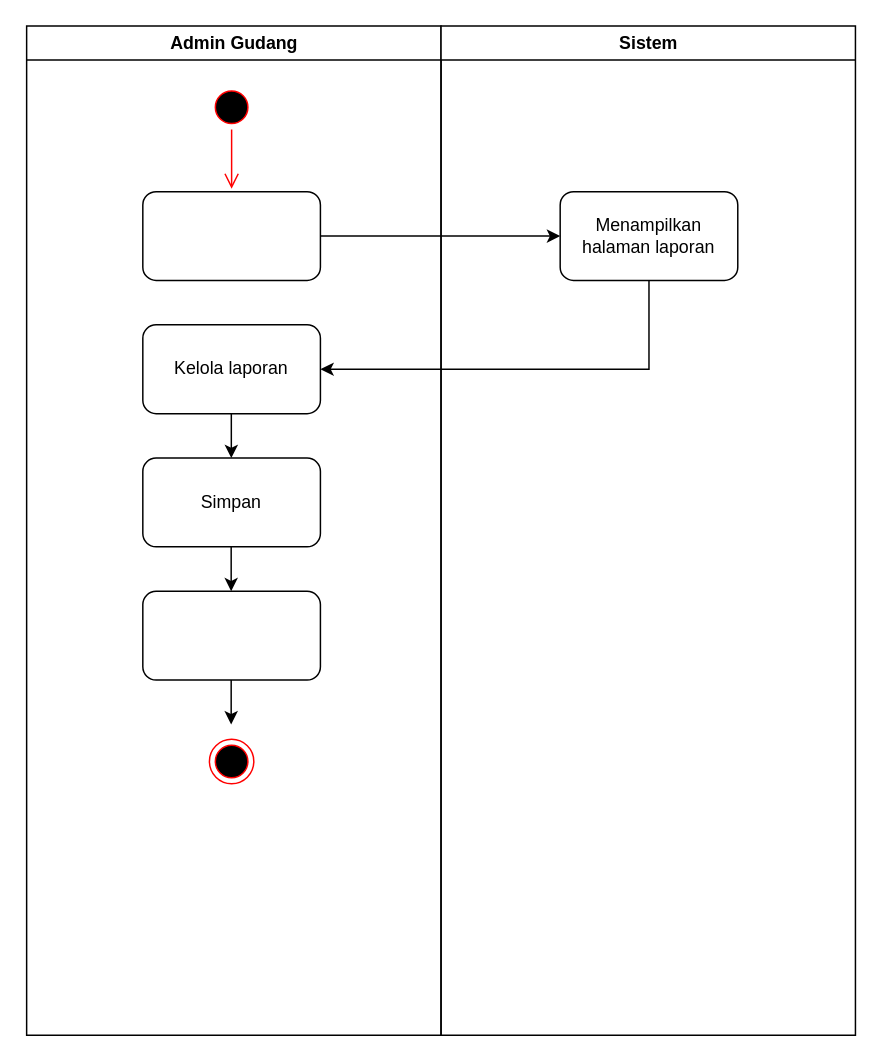
This 881x1061 diagram has some shape labels left out. Here are the shapes that lost their labels. From the top down, the centre of each, then its label:
At point 230,235: "Membuka laporan".
At point 230,635: "Selesai".
